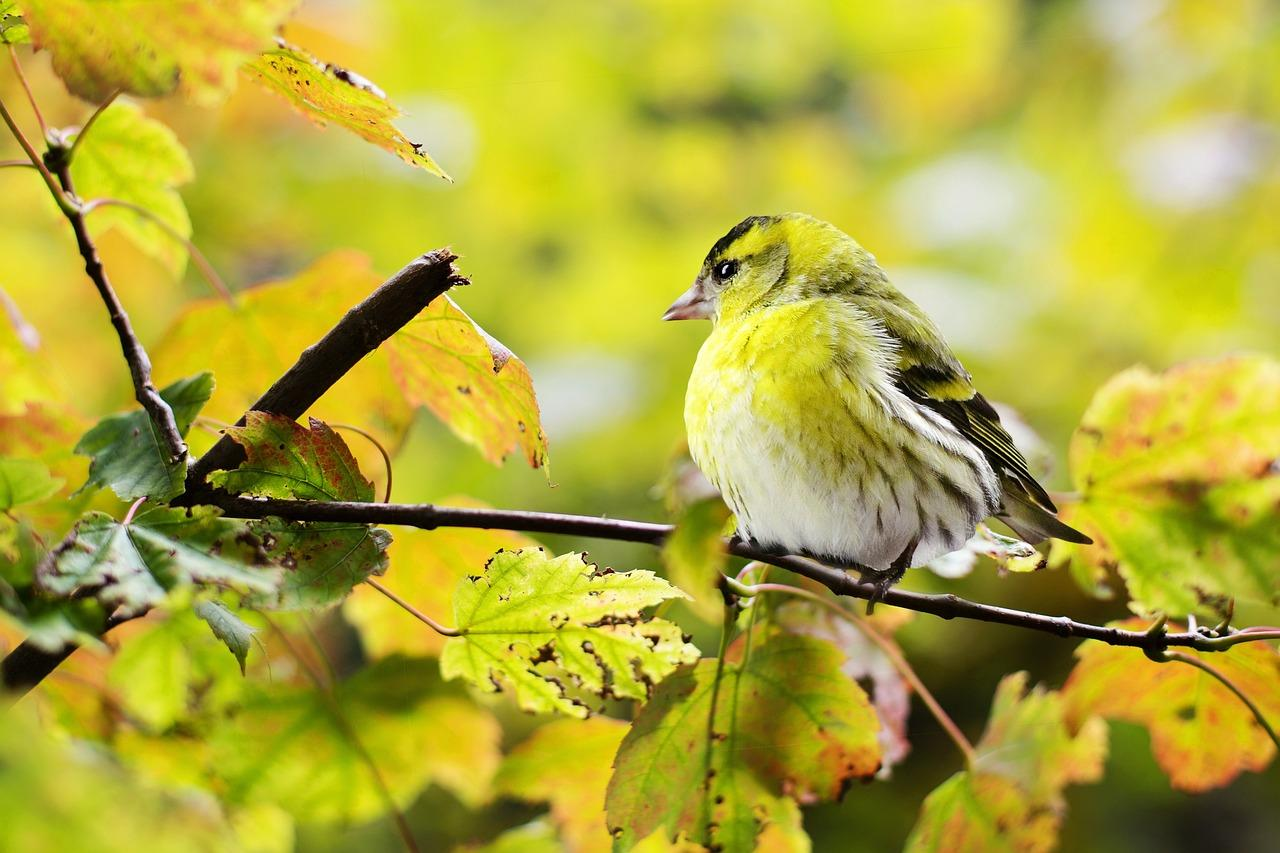bird: (662, 213, 1083, 585)
